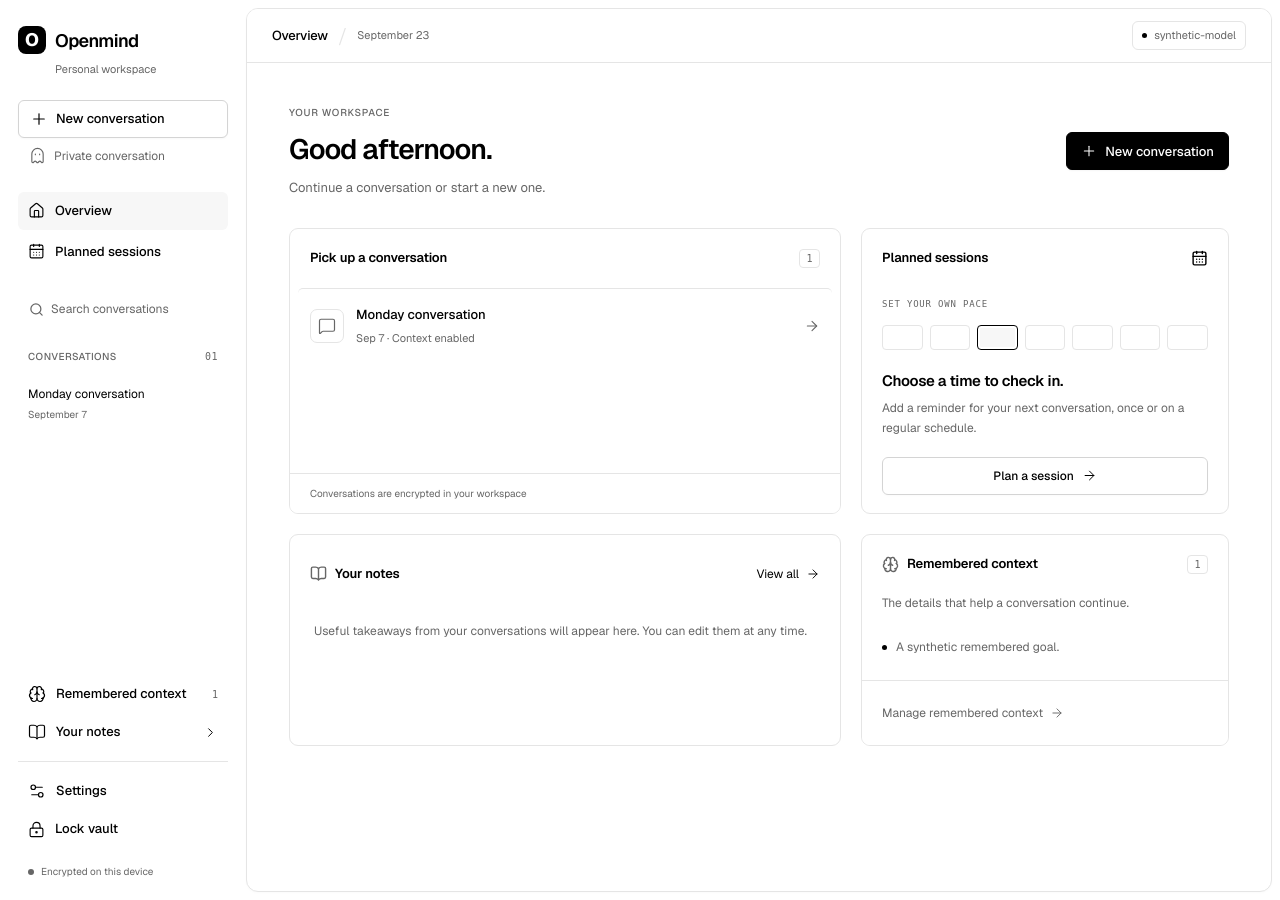
Test: native conversation lifecycle › offers a focused opening and only mentions continuity when memory exists
Click the button "Monday conversation September 7".
click(123, 403)  # box [18, 374, 228, 432]
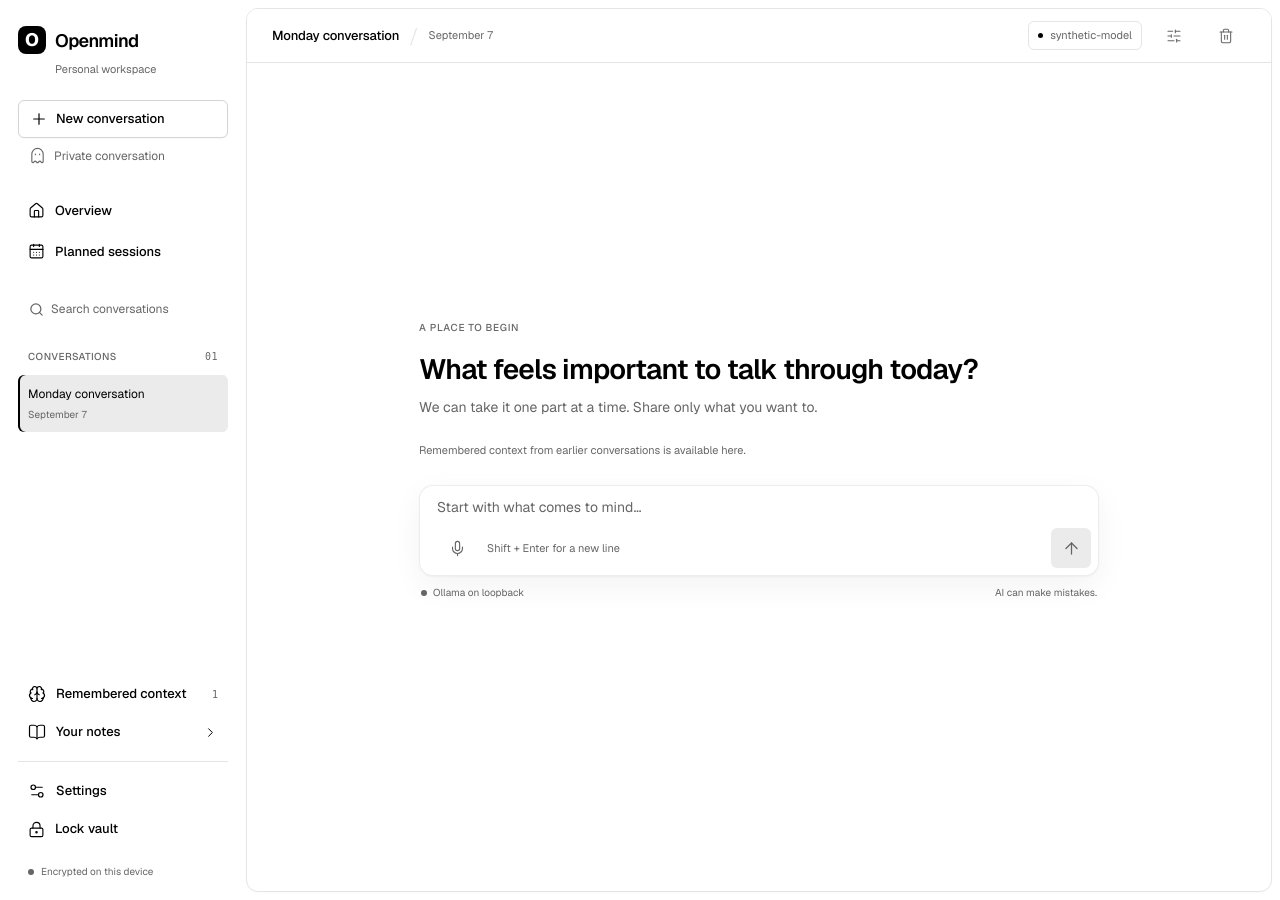
Check: the text box named "Your message" is shown, box [427, 496, 1091, 528]
Check: the heading "What feels important to talk through today?" is shown, box [419, 351, 978, 387]
Check: the text "Remembered context from earlier conversations" is shown, box [419, 443, 746, 457]
